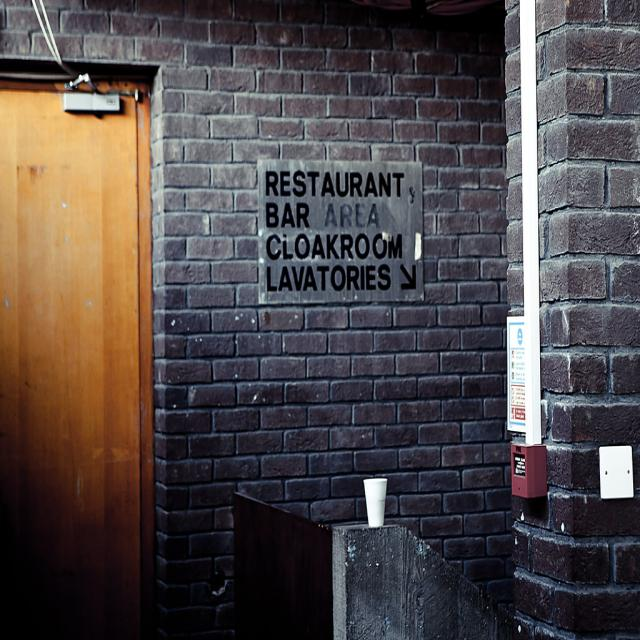door_local: (0, 63, 158, 640)
